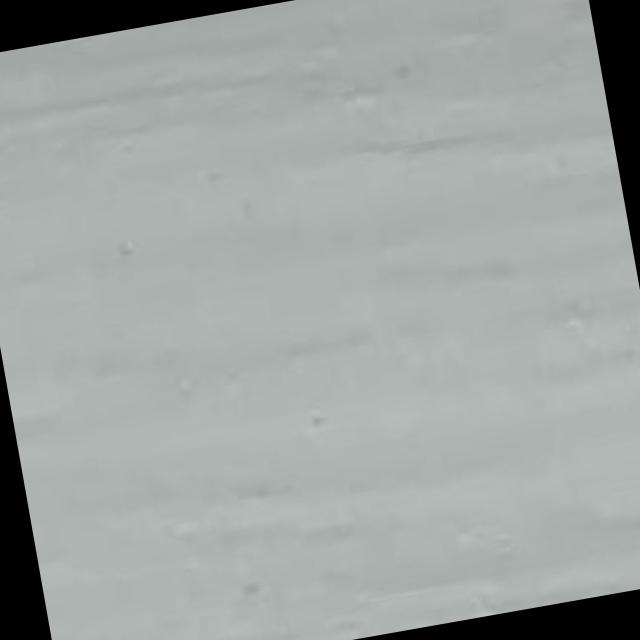Guns: (365, 0, 596, 79)
